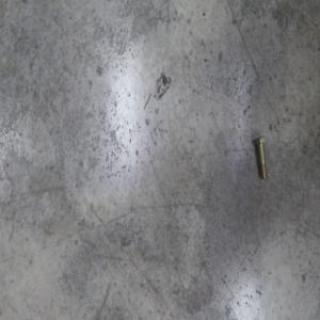Bolttrack_idkeyframe: (253, 132, 267, 178)
